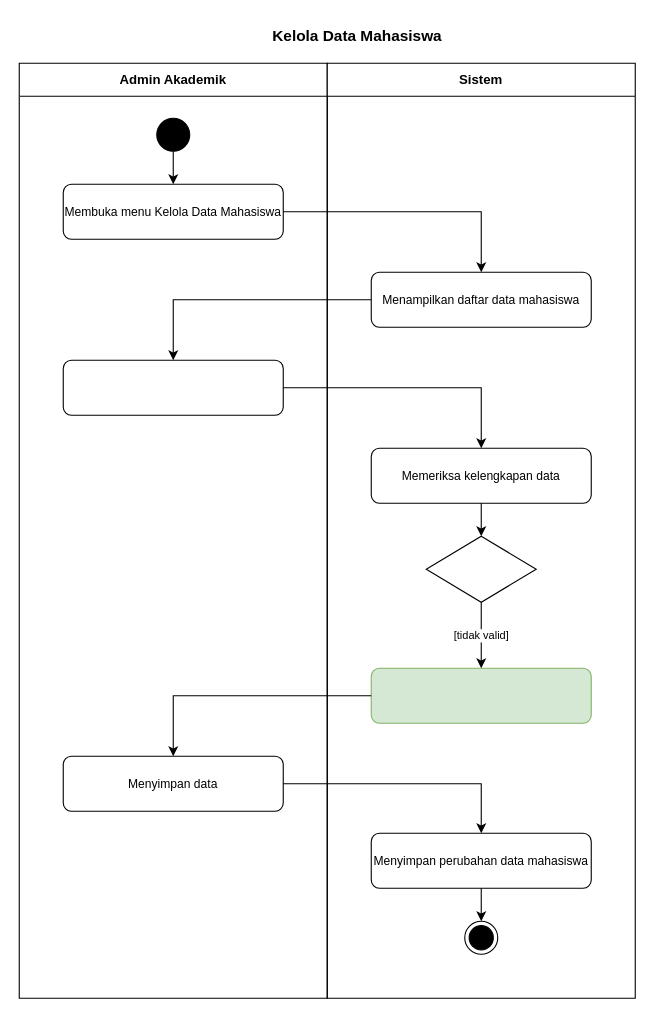
This 655x1018 diagram has some shape labels left out. Each missing label, with the centre of its shape:
"Data mahasiswa valid?" goes at point 480,568.
"Mengisi atau memperbarui data mahasiswa" goes at point 172,387.
"Menolak penyimpanan dan menampilkan pesan error" goes at point 480,695.
